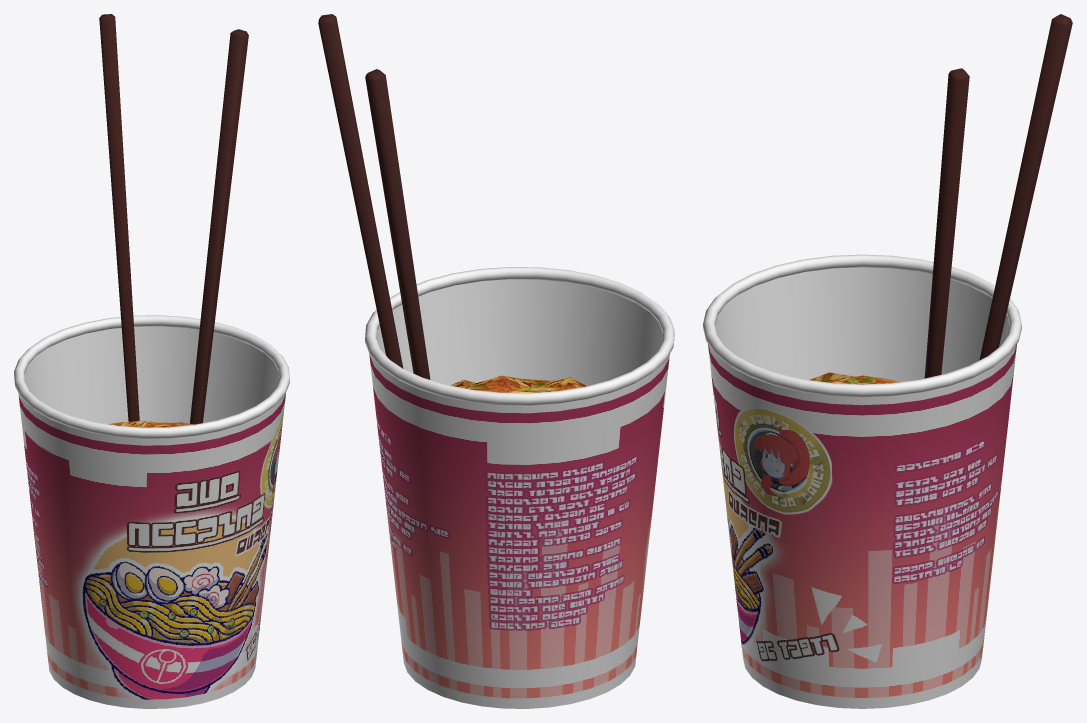
The model's file is noodles.glb.
3 views of the same model, side by side, from view 1: azimuth 30°, elevation 25°; view 2: azimuth 150°, elevation 25°; view 3: azimuth 270°, elevation 25° (orthographic). The views are drawn at different scales.
Parts seen in each view (by area): view 1: Tau Noodles; view 2: Tau Noodles; view 3: Tau Noodles.
Boxes of the visible parts, <box> form: Tau Noodles: <box>14,14,289,708</box>; Tau Noodles: <box>318,14,674,708</box>; Tau Noodles: <box>703,14,1072,708</box>.
Bounding box in the file's own units: 0.147 × 0.3151 × 0.1587.
1 material, 1 textured.
